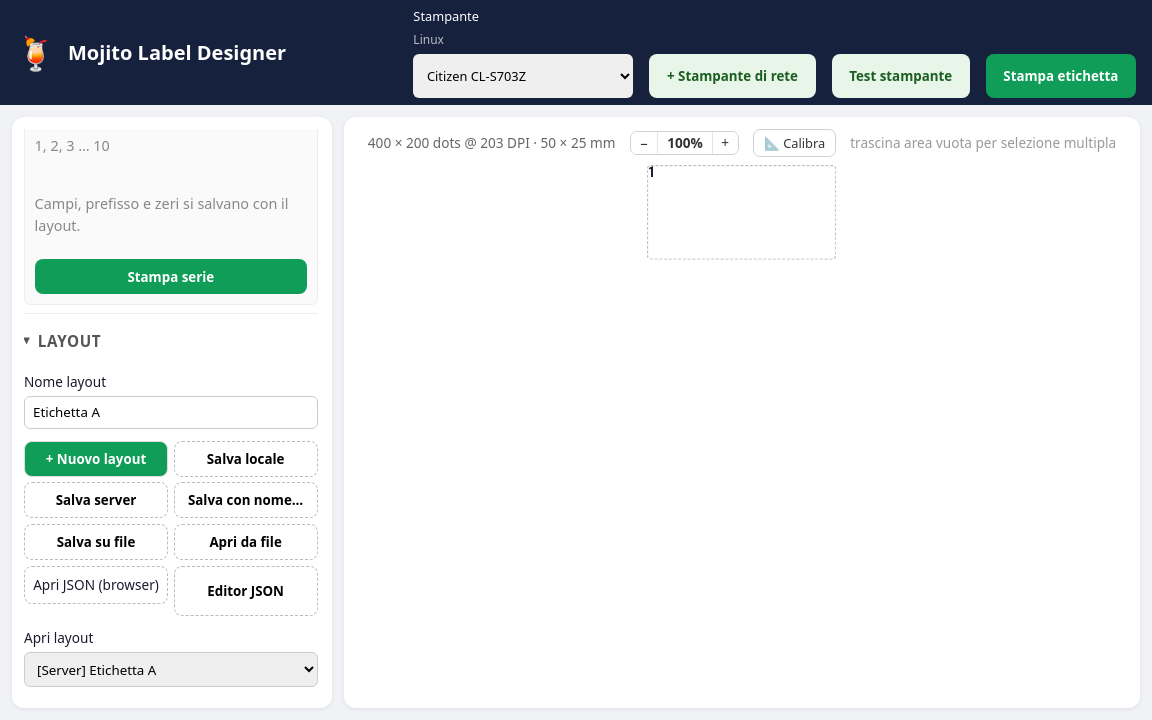
Test: LabelDesigner — salvataggio senza sovrascrivere › "Salva server" › se il nome è cambiato e si conferma, sovrascrive
(page scrolled)
Replace the text in the field labelled "Nome layout" with "Etichetta B": (171, 412) [24,396,318,429]
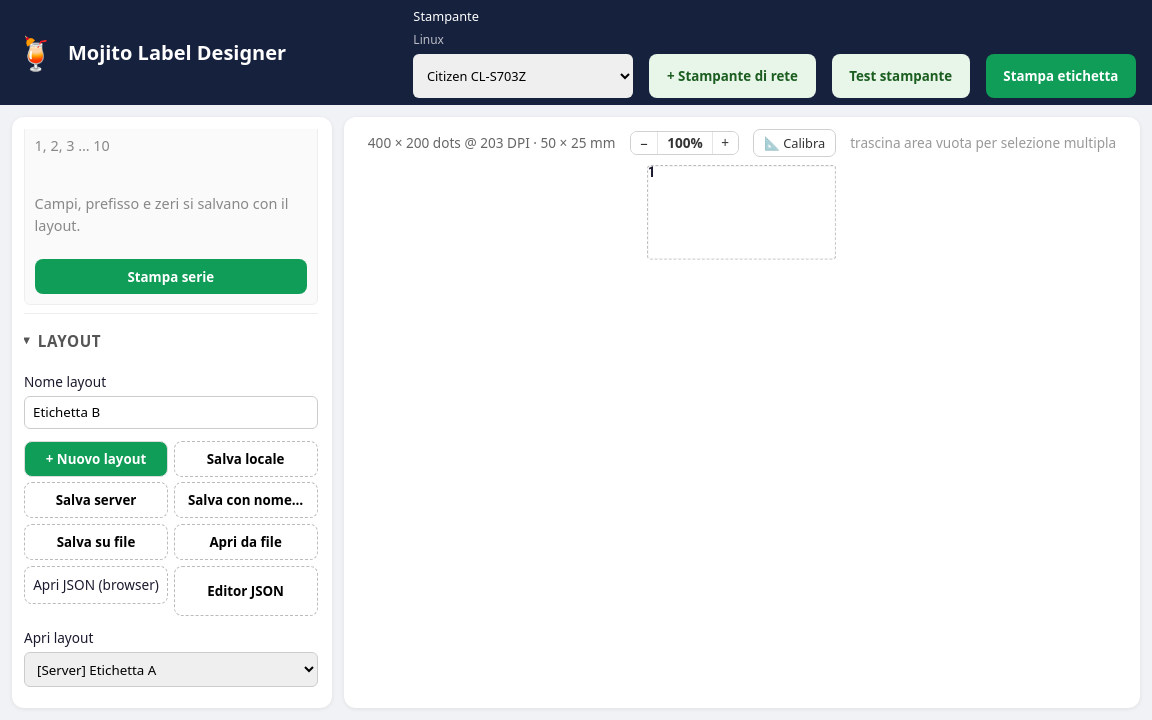
Click the button "Salva server": (96, 500) [24,482,168,518]
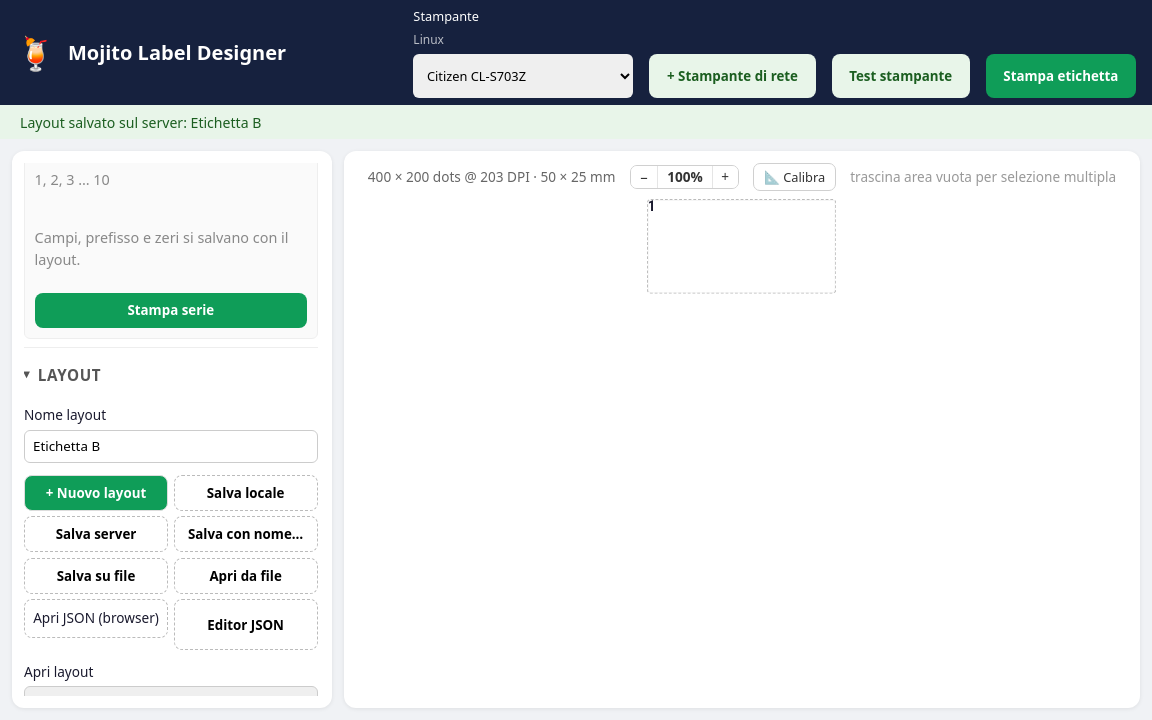
Expected: the element with class "status" reads "Layout salvato sul server: Etichetta B", [20,112,261,132]
